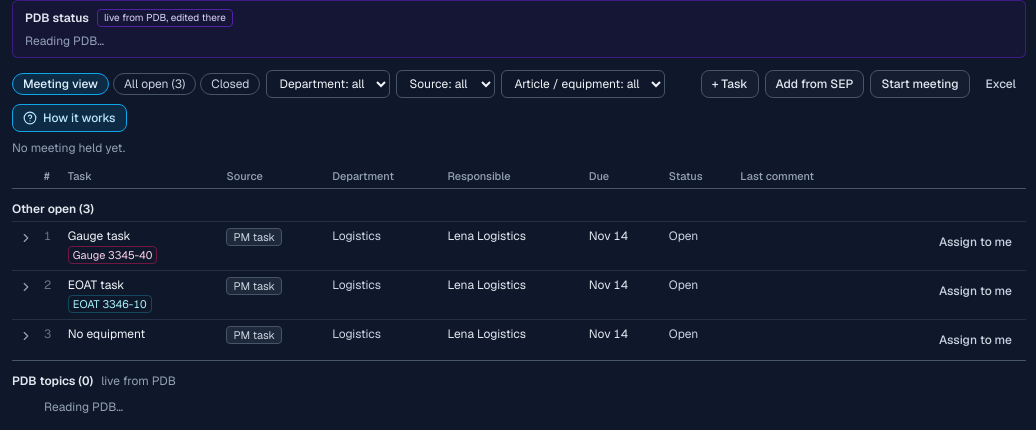
LOP equipment › the Equipment filter finds a tool's PDB topics and the tasks linked to its gauge
Expected: the row with test id "lop-row-1" is shown, [12,222,1026,270]
Select "3345" in the dropdown named "Article or equipment" at x=583, y=84, box [501,70,665,98]
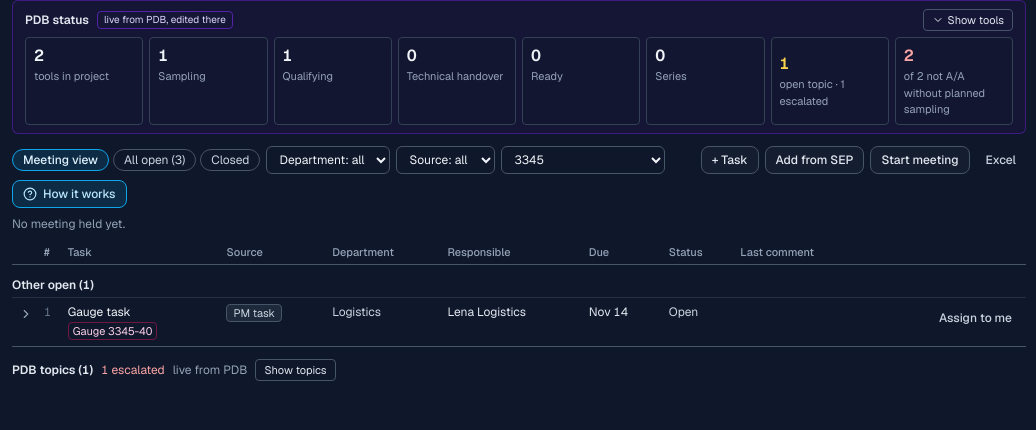
Expected: the row with test id "lop-row-2" is gone
Expected: the row with test id "lop-row-3" is gone
Expected: the text "PDB topics (1)" is shown, [12,346,1026,384]
Select "3346-10" in the dropdown named "Article or equipment" at x=583, y=160, box [501,146,665,174]
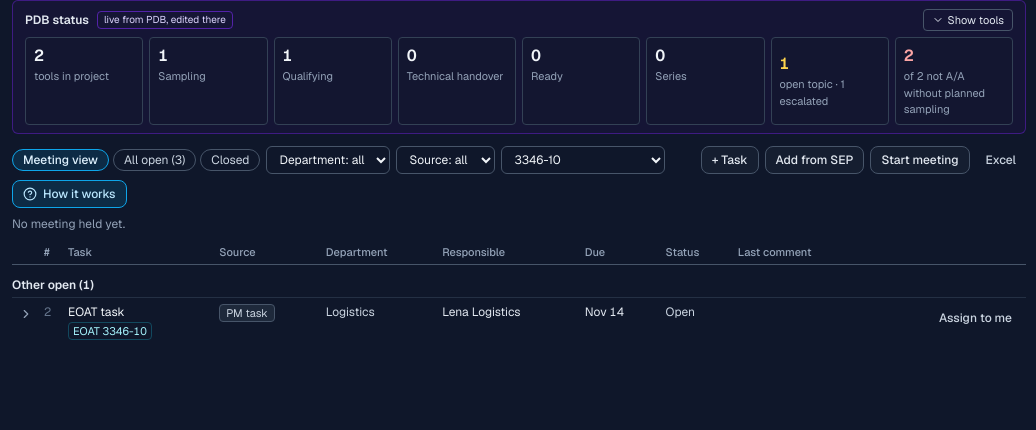
Expected: the row with test id "lop-row-2" is shown, [12,297,1026,346]
Expected: the row with test id "lop-row-1" is gone
